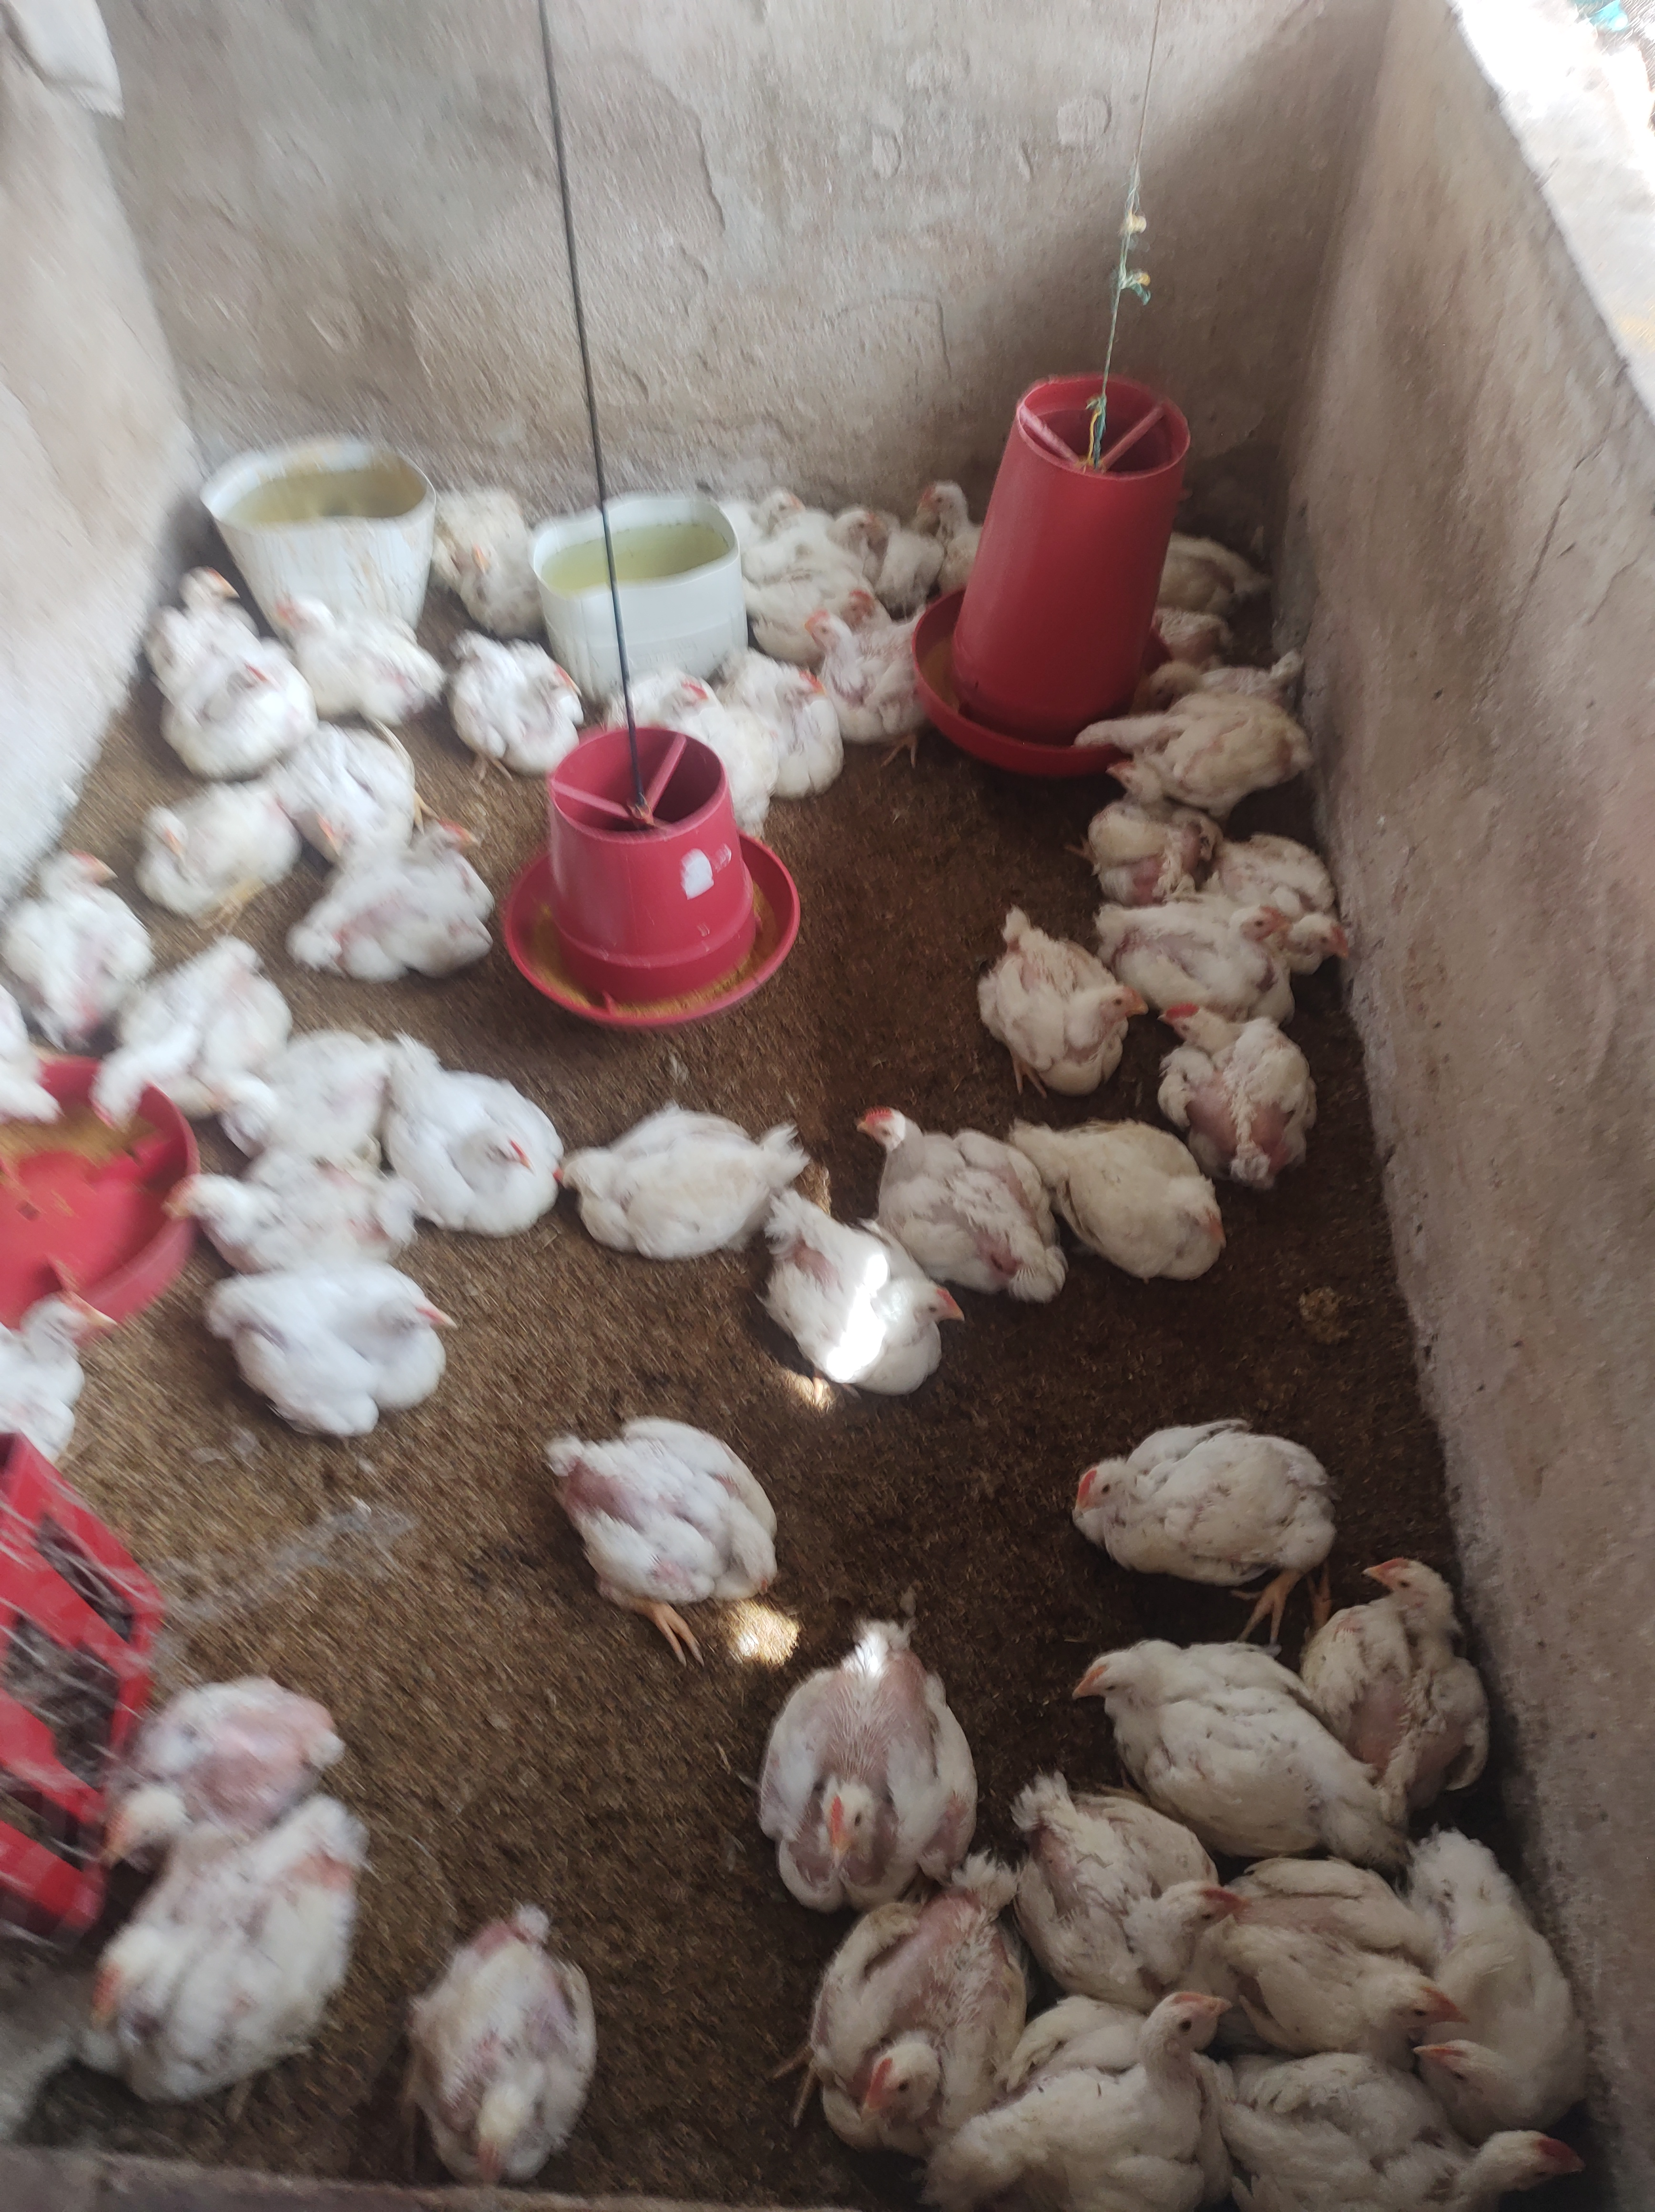Pollos: (94, 1814, 377, 2083), (1080, 1624, 1392, 1859), (746, 1617, 986, 1904), (532, 1405, 784, 1640), (1238, 2052, 1603, 2212), (826, 1883, 1031, 2153), (87, 1650, 342, 1864), (1017, 1744, 1231, 1998), (993, 1986, 1240, 2205), (746, 1174, 963, 1419), (415, 1887, 600, 2175), (1417, 1835, 1594, 2130), (1076, 1405, 1346, 1598), (859, 1092, 1059, 1309), (207, 1266, 461, 1435), (565, 1082, 789, 1268), (103, 923, 285, 1137), (389, 1033, 567, 1247), (1330, 1555, 1493, 1781), (1048, 1097, 1226, 1296), (1067, 682, 1321, 819), (1154, 998, 1319, 1193), (170, 1137, 412, 1268), (0, 821, 141, 1040), (329, 816, 516, 977), (991, 899, 1135, 1108), (419, 619, 591, 790), (777, 612, 974, 756), (699, 664, 841, 861), (151, 624, 334, 769), (275, 569, 438, 727), (216, 1012, 396, 1153), (1114, 880, 1283, 1029), (0, 1273, 122, 1475), (137, 776, 285, 923), (415, 471, 553, 621), (1233, 821, 1359, 974), (275, 711, 409, 856), (1087, 753, 1208, 897), (1139, 506, 1276, 614), (141, 555, 243, 685), (0, 983, 71, 1160), (615, 633, 713, 760), (914, 466, 1008, 588), (699, 468, 814, 541), (819, 570, 906, 642), (821, 485, 897, 550)
